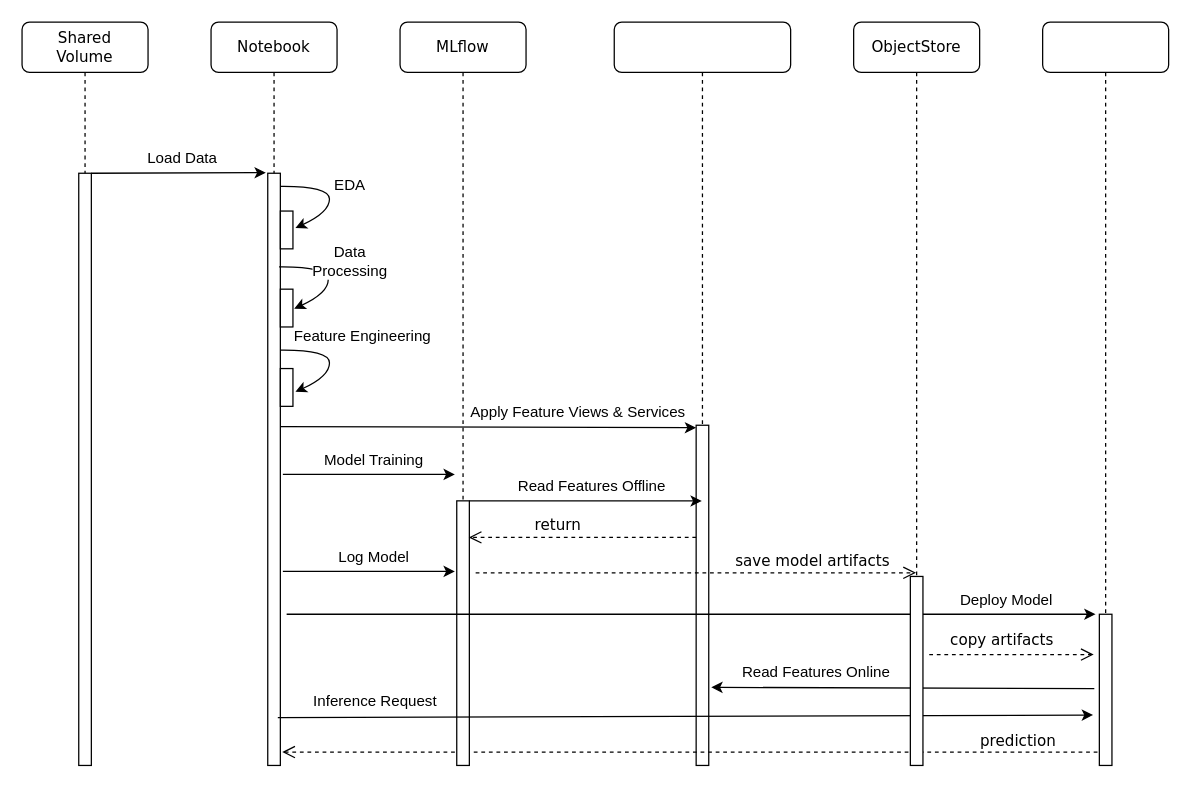
Some shapes in this 1191 by 788 pixel diagram are drawn without their labels. Each missing label, with the box of its shape:
Feast Offline/Online Feature Store: (613, 21, 791, 765)
KServe: (1041, 21, 1169, 765)
